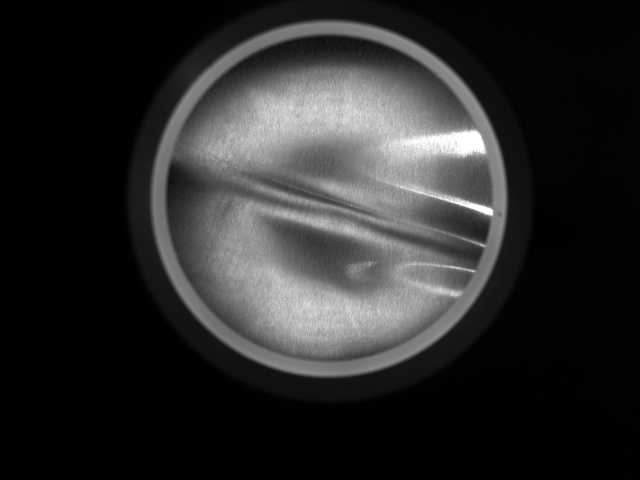zhe_zhou: (199, 78, 461, 320)
